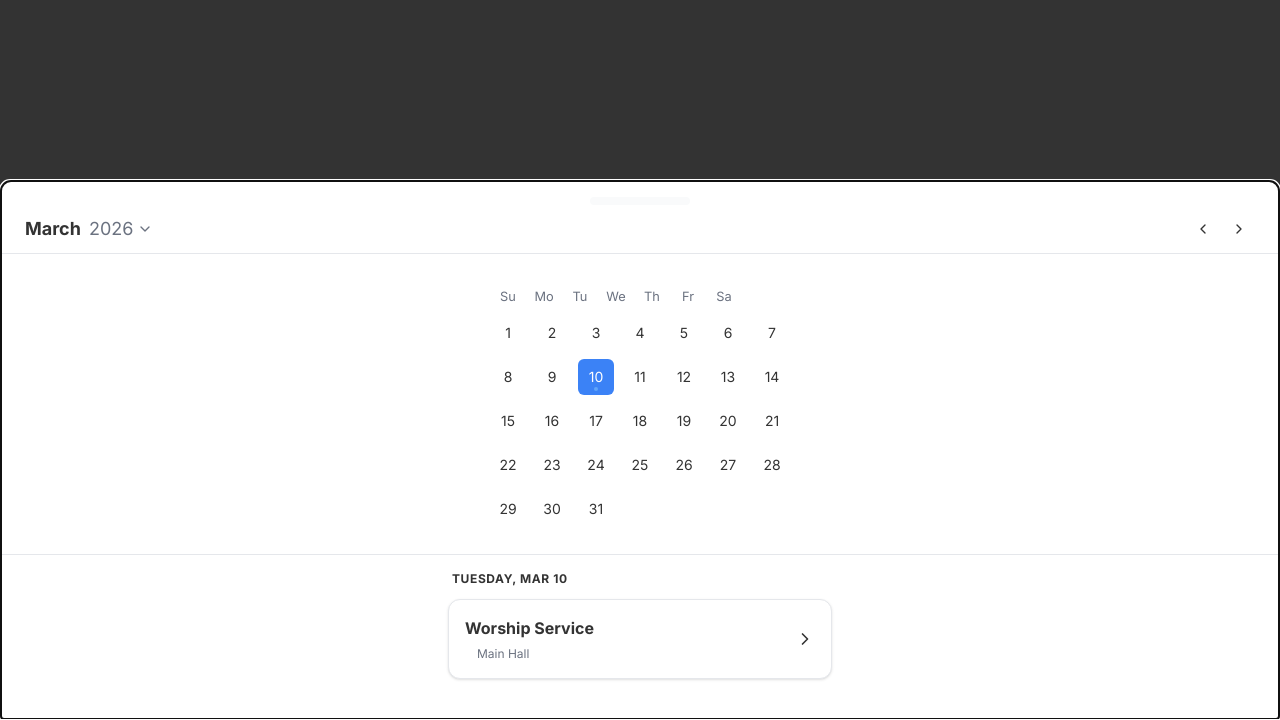
Test case: GenericCalendarDrawer › switches to 'months' view when header is clicked
Click header to toggle view
Click the button with aria-label "Toggle month selection" at (53, 229), box [25,215,81,243]
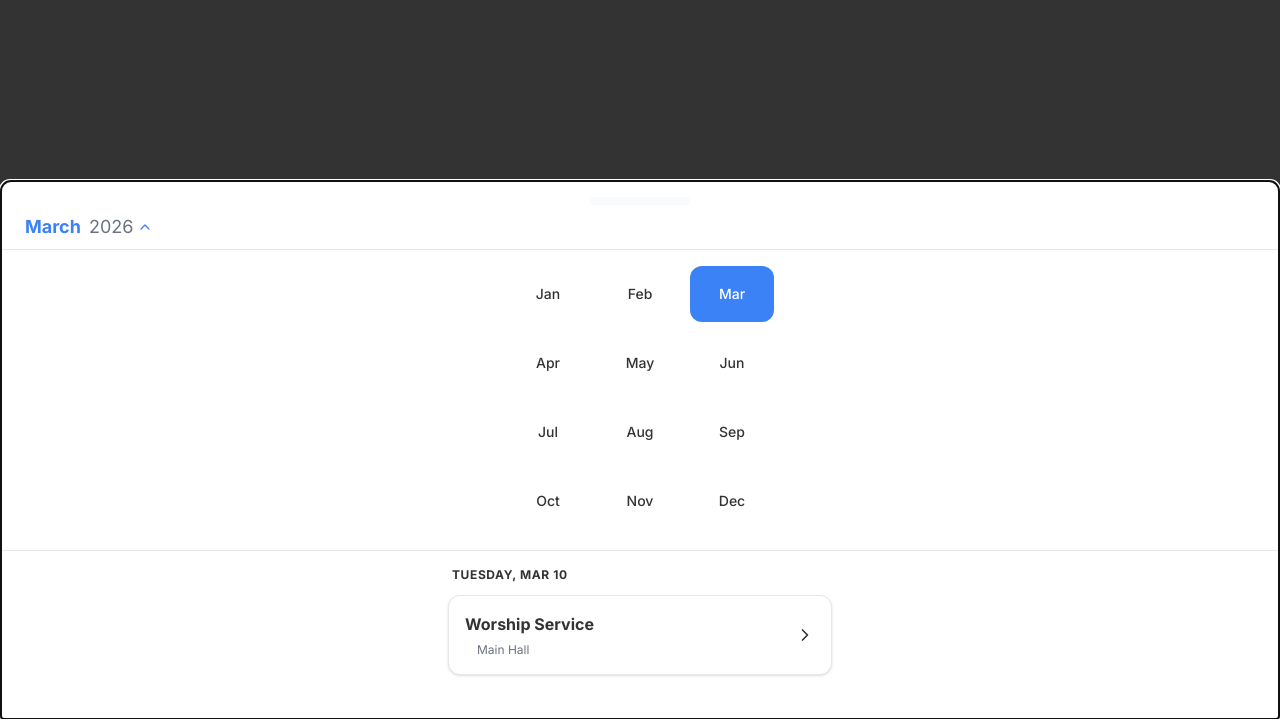
Expected: the button "Jan" is shown, [506,266,590,322]
Expected: the button "Dec" is shown, [690,473,774,529]
